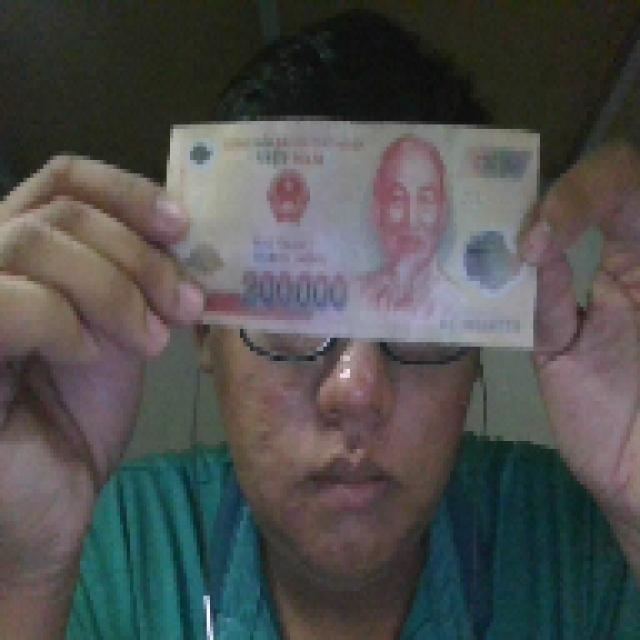200 000 VND: (158, 110, 548, 350)
